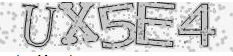4: (177, 2, 220, 49)
5: (98, 2, 138, 54)
E: (136, 1, 176, 49)
U: (21, 2, 58, 49)
X: (57, 1, 99, 49)
